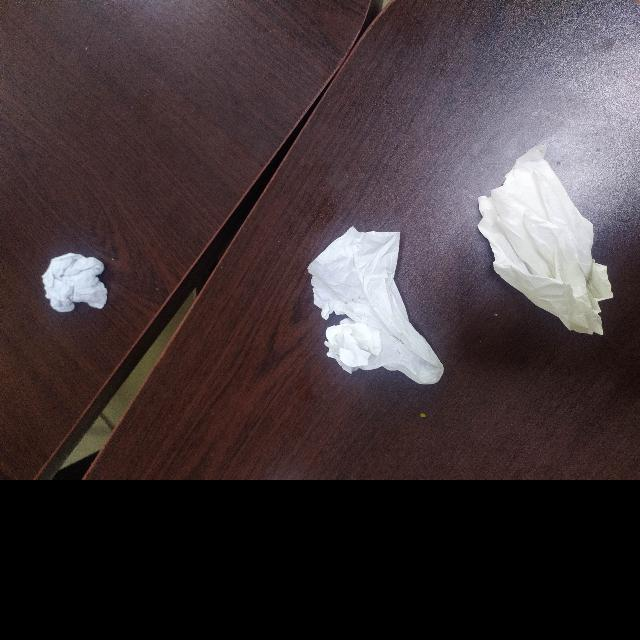kitchen paper: (468, 144, 632, 342), (295, 225, 453, 394), (36, 245, 122, 317)
